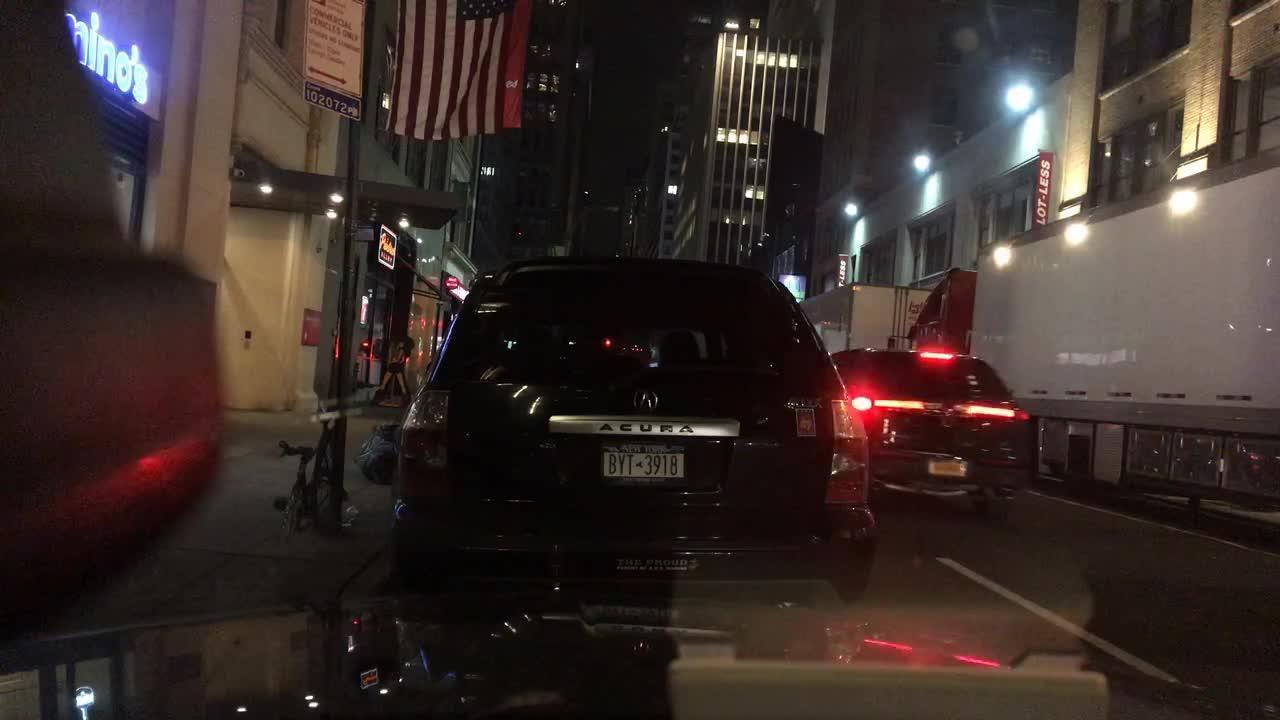acura: (628, 382, 667, 421)
lincoln: (938, 395, 960, 435)
